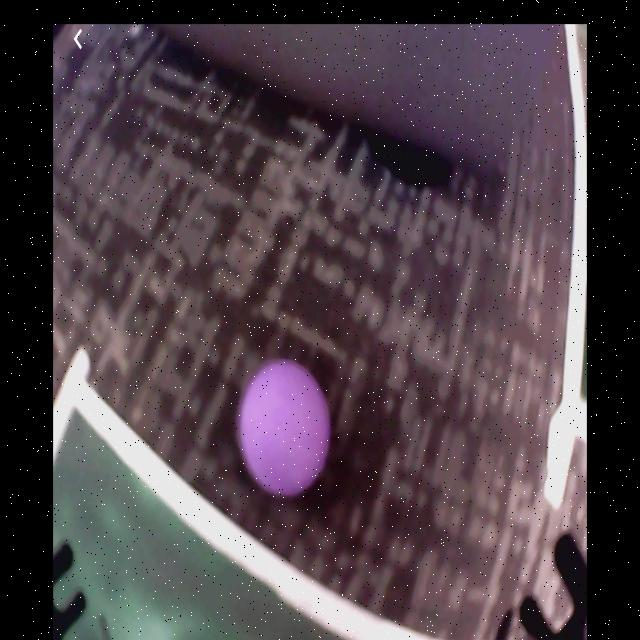ball: (238, 357, 332, 505)
